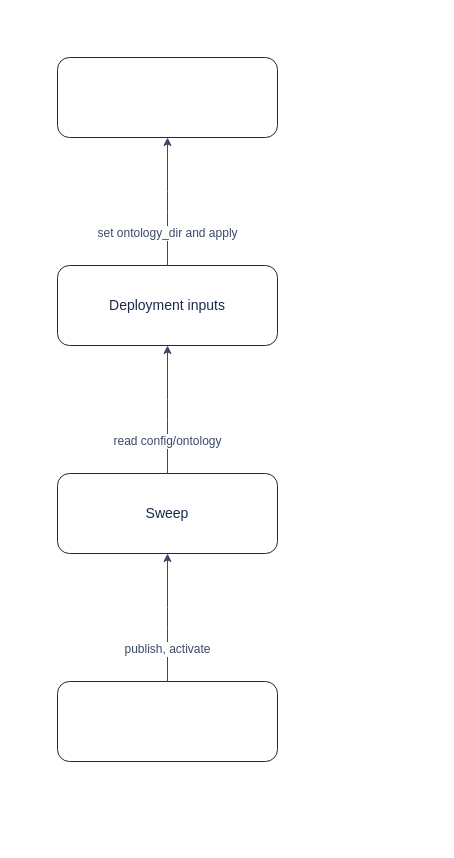
Image size: 454x858. Some labels were removed from this diagram. Here are the shapes that lost their labels. From the top down, the centre of each, then its label:
At point (167, 97): "Curator".
At point (167, 721): "Ontology store".
